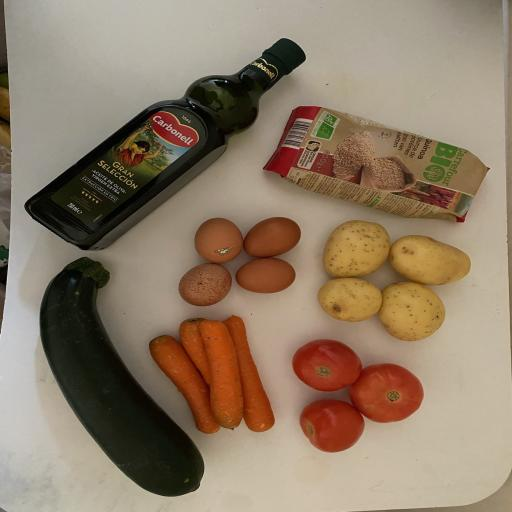carrot: (146, 331, 221, 439), (220, 311, 277, 440), (198, 315, 254, 436), (173, 314, 220, 386)
courgette: (37, 254, 207, 498)
egg: (239, 214, 307, 261), (176, 260, 234, 310), (232, 255, 299, 295), (191, 216, 242, 264)
olive_oil: (22, 34, 312, 256)
potato: (384, 234, 480, 288), (376, 279, 452, 345), (319, 217, 393, 282), (316, 274, 386, 322)
quinoa: (260, 104, 492, 227)
tomato: (348, 358, 426, 426), (289, 334, 365, 395), (294, 396, 366, 456)
